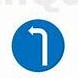Turn_left: (10, 18, 67, 73)
